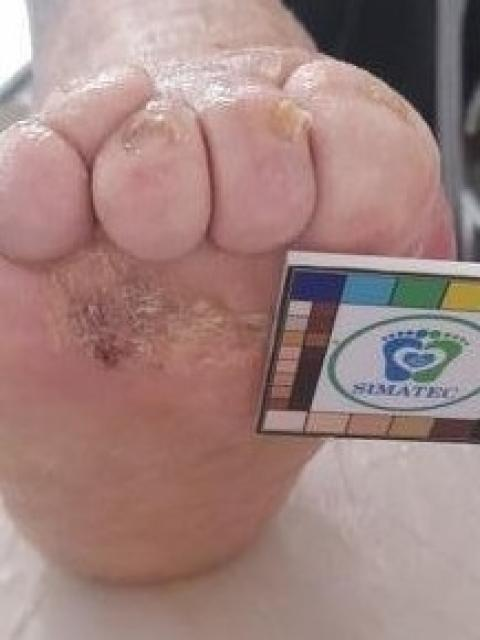wound: (46, 255, 279, 372)
